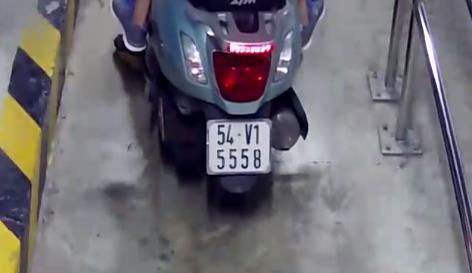lisence: (205, 119, 272, 174)
